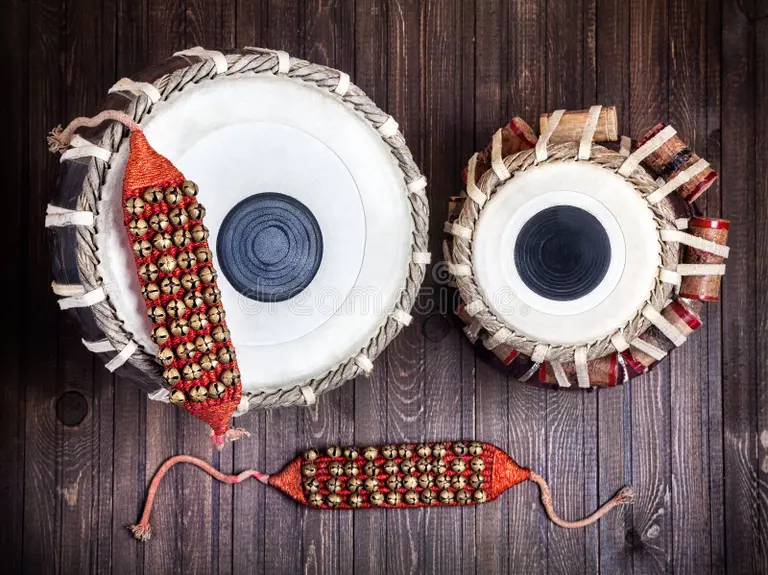tabla: (50, 51, 425, 411), (441, 109, 722, 380)
